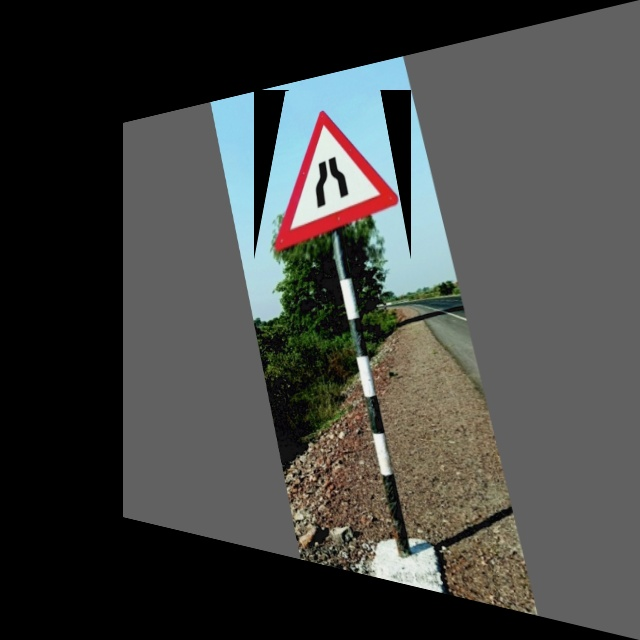Narrow_Road_Ahead: (254, 90, 411, 260)
